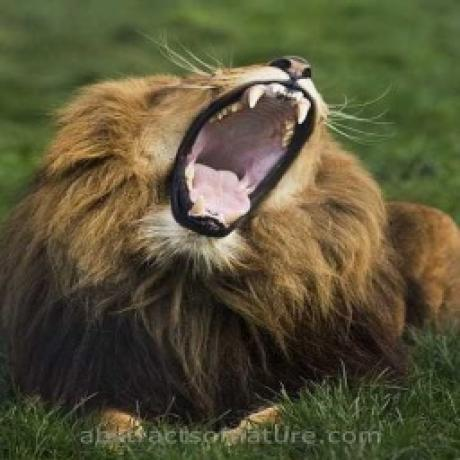Lion: (0, 51, 460, 448)
